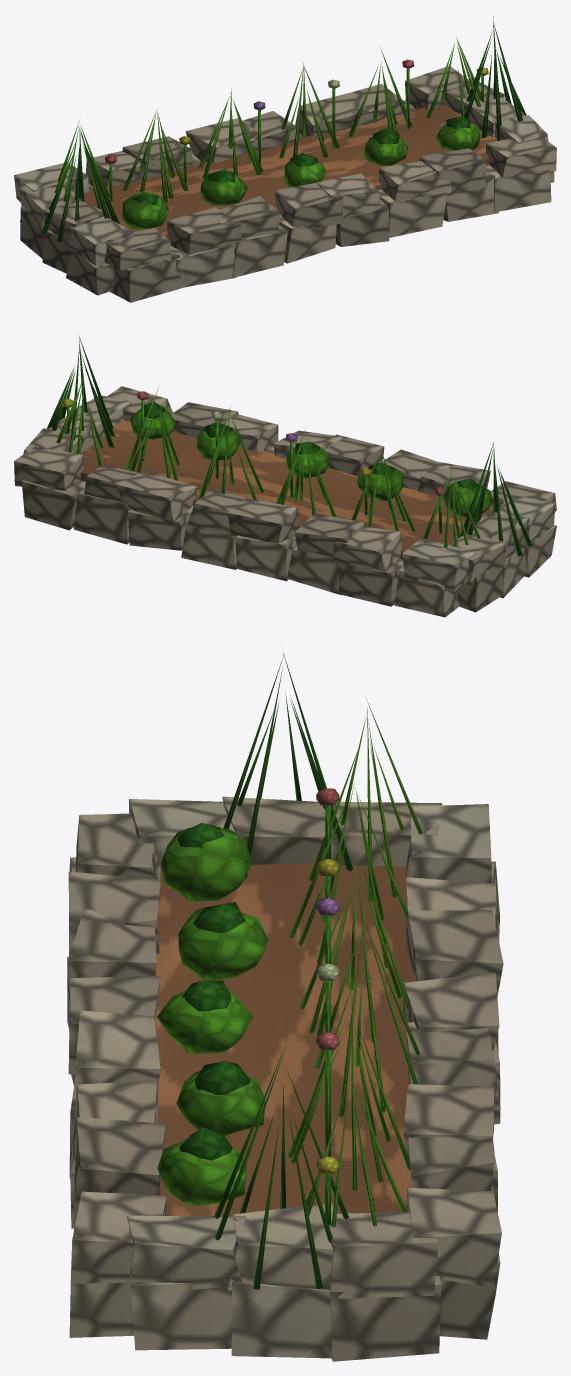
The model's file is garden_bed_a.glb.
3 renders of one model, top to bottom at view 1: azimuth 30°, elevation 25°; view 2: azimuth 150°, elevation 25°; view 3: azimuth 270°, elevation 25°, orthographic. The views are drawn at different scales.
Parts seen in each view (by area): view 1: garden_bed_a; view 2: garden_bed_a; view 3: garden_bed_a.
Boxes of the visible parts, x1,y1,x2,y2 form: garden_bed_a: [14, 16, 556, 302]; garden_bed_a: [14, 335, 556, 617]; garden_bed_a: [67, 652, 503, 1361].
Bounding box in the file's own units: 4.5 × 1.36 × 1.78.
Materials: 3 (3 with a texture image).
